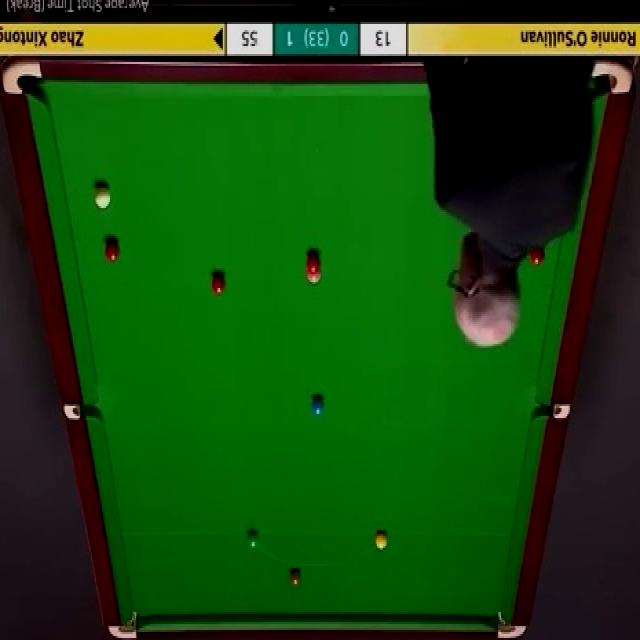blue-ball: (310, 396, 325, 418)
brown-ball: (289, 568, 302, 588)
green-ball: (247, 530, 260, 551)
pink-ball: (306, 270, 322, 284)
red-ball: (529, 242, 545, 268), (104, 239, 120, 264), (209, 272, 226, 294), (305, 252, 322, 273)
white-ball: (94, 183, 112, 208)
yellow-ball: (373, 529, 386, 549)
